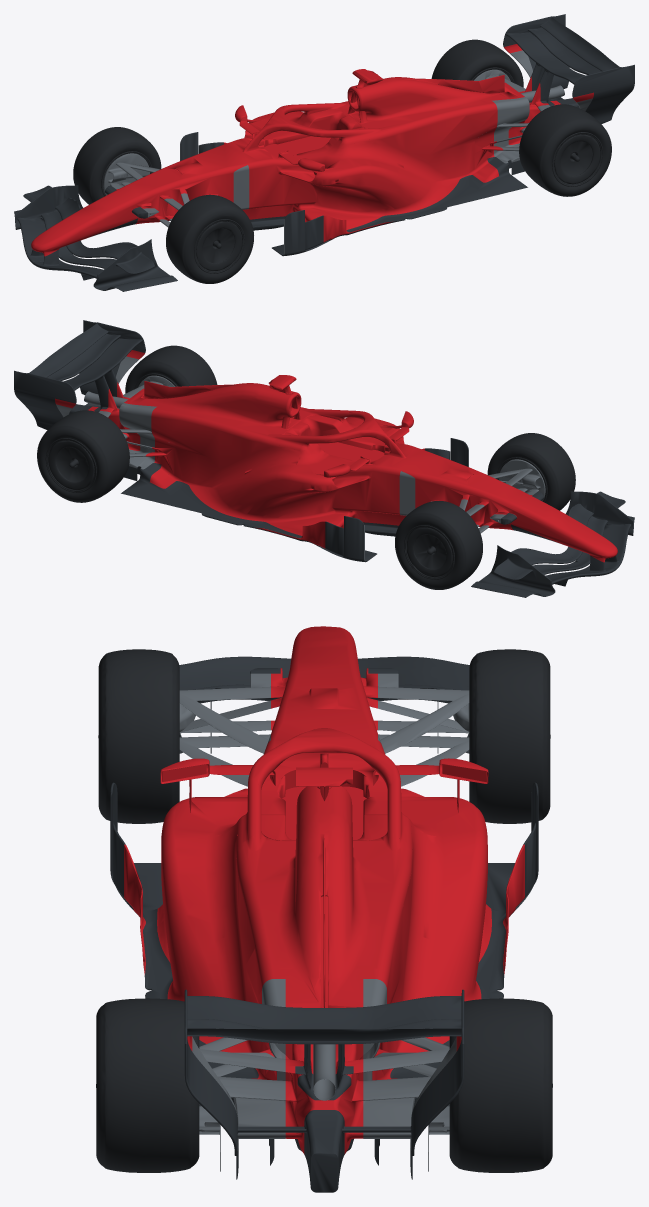
The picture shows the model from 3 angles, top to bottom: view 1: azimuth 30°, elevation 25°; view 2: azimuth 150°, elevation 25°; view 3: azimuth 270°, elevation 25°; orthographic projection. The views are drawn at different scales.
Visible parts, largest first — view 1: left-sidepod, chassis, front-wing, rear-wing, engine-cover, rear-left-wheel, front-left-wheel, floor, front-right-wheel, halo, rear-right-wheel, rear-suspension (+3 smaller); view 2: right-sidepod, chassis, front-wing, rear-wing, engine-cover, rear-right-wheel, front-right-wheel, floor, front-left-wheel, halo, rear-left-wheel, rear-suspension (+3 smaller); view 3: engine-cover, chassis, rear-wing, left-sidepod, right-sidepod, rear-left-wheel, rear-right-wheel, front-left-wheel, front-right-wheel, rear-suspension, front-suspension, floor (+4 smaller).
Part boxes in pixels (left/top/right/bottom): left-sidepod: left=281, top=106, right=503, bottom=242; chassis: left=31, top=76, right=560, bottom=256; front-wing: left=14, top=185, right=177, bottom=291; rear-wing: left=503, top=14, right=634, bottom=123; engine-cover: left=336, top=44, right=593, bottom=139; rear-left-wheel: left=519, top=104, right=611, bottom=196; front-left-wheel: left=166, top=194, right=253, bottom=283; floor: left=180, top=132, right=527, bottom=256; front-right-wheel: left=73, top=127, right=161, bottom=204; halo: left=245, top=103, right=375, bottom=148; rear-right-wheel: left=431, top=39, right=523, bottom=87; rear-suspension: left=474, top=50, right=592, bottom=163; right-sidepod: left=145, top=412, right=367, bottom=548; chassis: left=88, top=382, right=617, bottom=562; front-wing: left=471, top=491, right=634, bottom=597; rear-wing: left=14, top=320, right=145, bottom=429; engine-cover: left=55, top=350, right=312, bottom=445; rear-right-wheel: left=37, top=410, right=129, bottom=502; front-right-wheel: left=395, top=501, right=482, bottom=589; floor: left=121, top=438, right=468, bottom=562; front-left-wheel: left=487, top=433, right=575, bottom=510; halo: left=273, top=409, right=403, bottom=454; rear-left-wheel: left=125, top=345, right=217, bottom=393; rear-suspension: left=56, top=356, right=175, bottom=469; engine-cover: left=187, top=767, right=461, bottom=1051; chassis: left=234, top=626, right=414, bottom=1154; rear-wing: left=184, top=989, right=464, bottom=1192; left-sidepod: left=124, top=765, right=264, bottom=1079; right-sidepod: left=384, top=765, right=524, bottom=1079; rear-left-wheel: left=96, top=998, right=199, bottom=1172; rear-right-wheel: left=449, top=998, right=552, bottom=1172; front-left-wheel: left=98, top=649, right=179, bottom=823; front-right-wheel: left=469, top=649, right=550, bottom=823; rear-suspension: left=192, top=979, right=456, bottom=1152; front-suspension: left=179, top=673, right=469, bottom=786; floor: left=110, top=782, right=538, bottom=1179.
Size of the model in its own units: 5.39 by 1.1 by 1.88.
